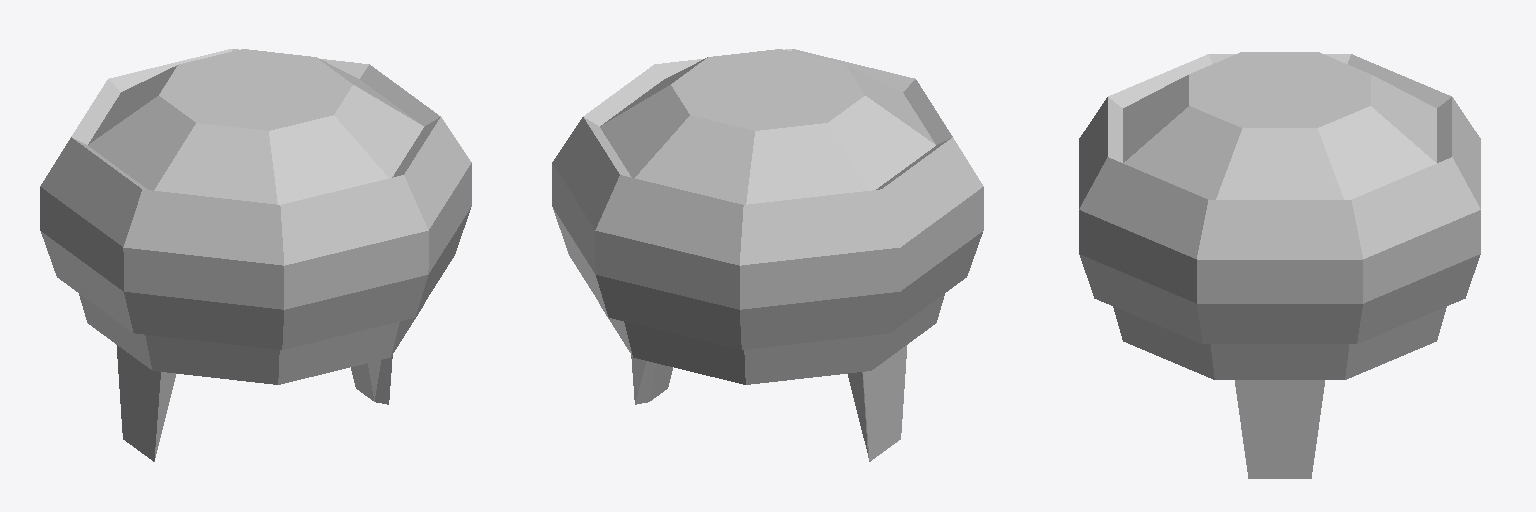
File: drone01.obj
3 renders of one model, left to right at view 1: azimuth 30°, elevation 25°; view 2: azimuth 150°, elevation 25°; view 3: azimuth 270°, elevation 25°, orthographic.
Size of the model in its own units: 2.05 by 1.87 by 2.05.